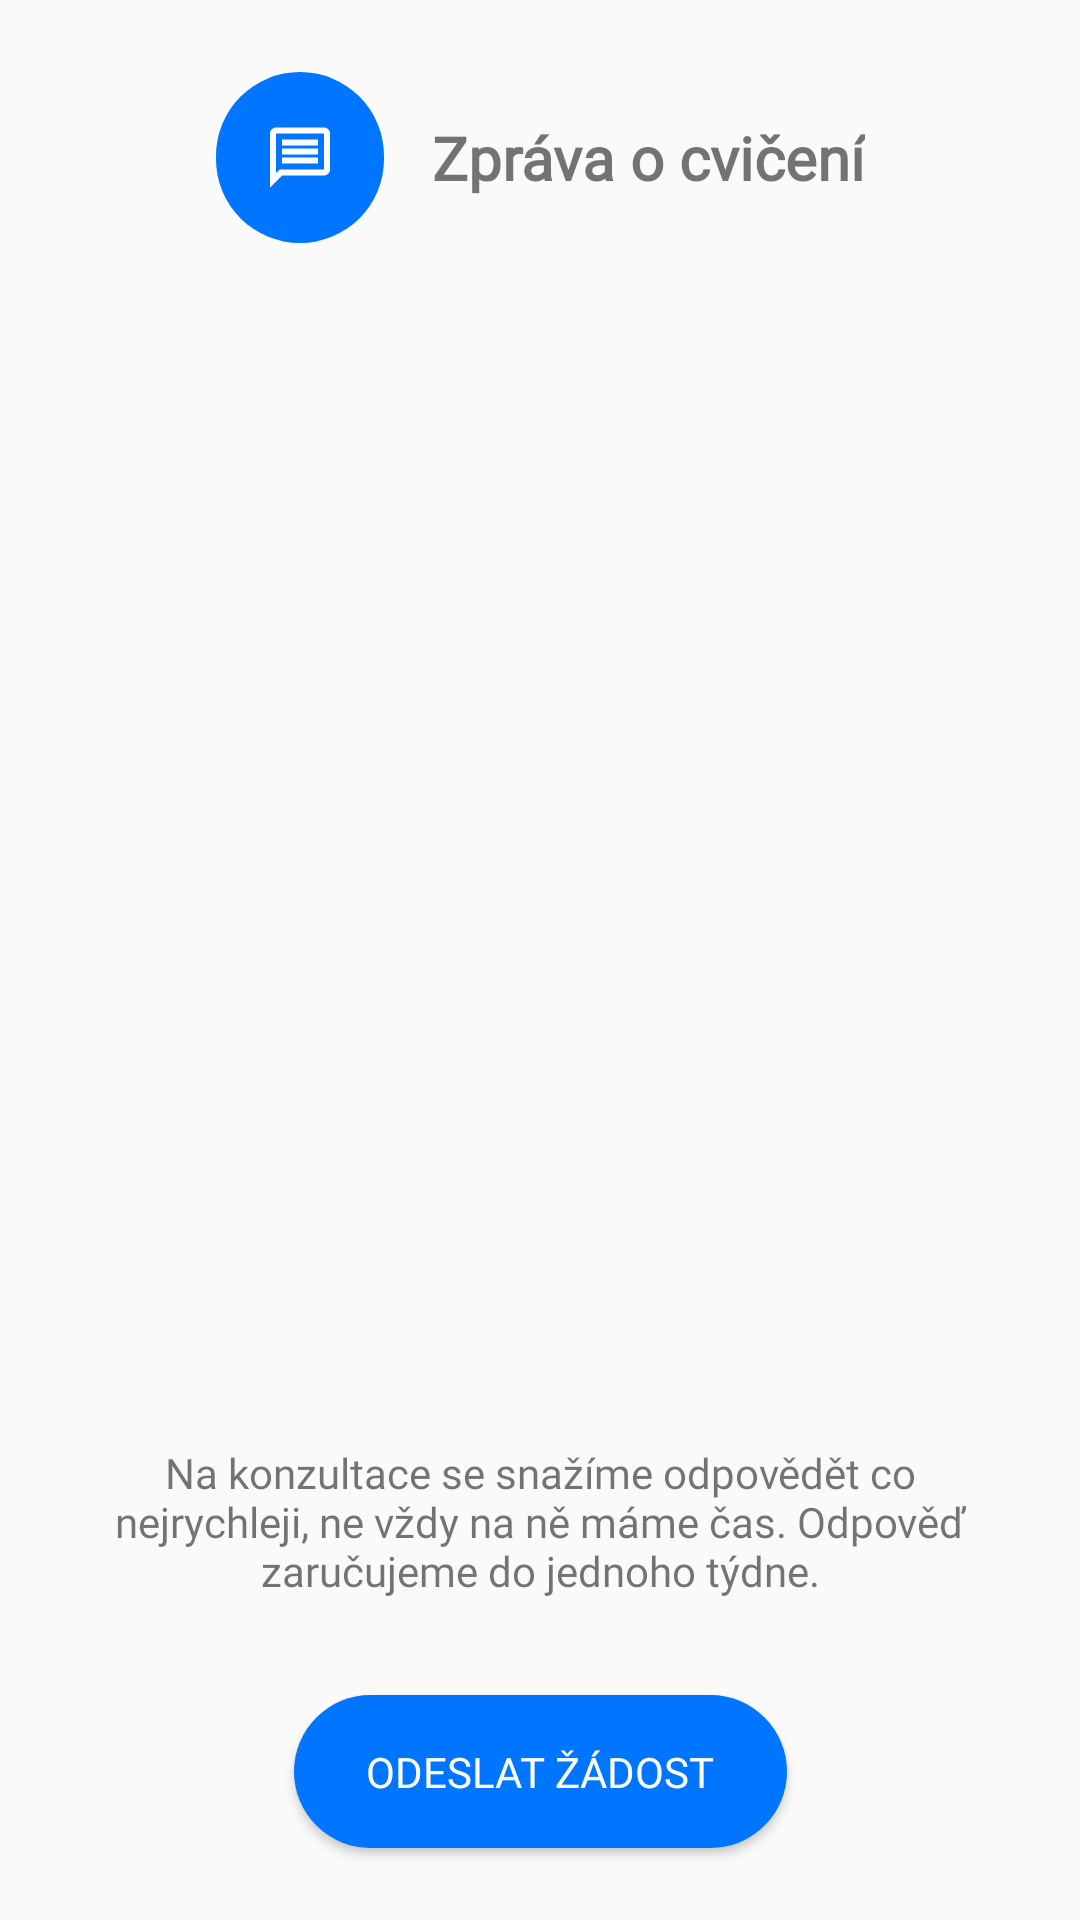

Point at icon controls on the screen. Image size 1080x1920, points as point (x, y).
message: point (300, 157)
